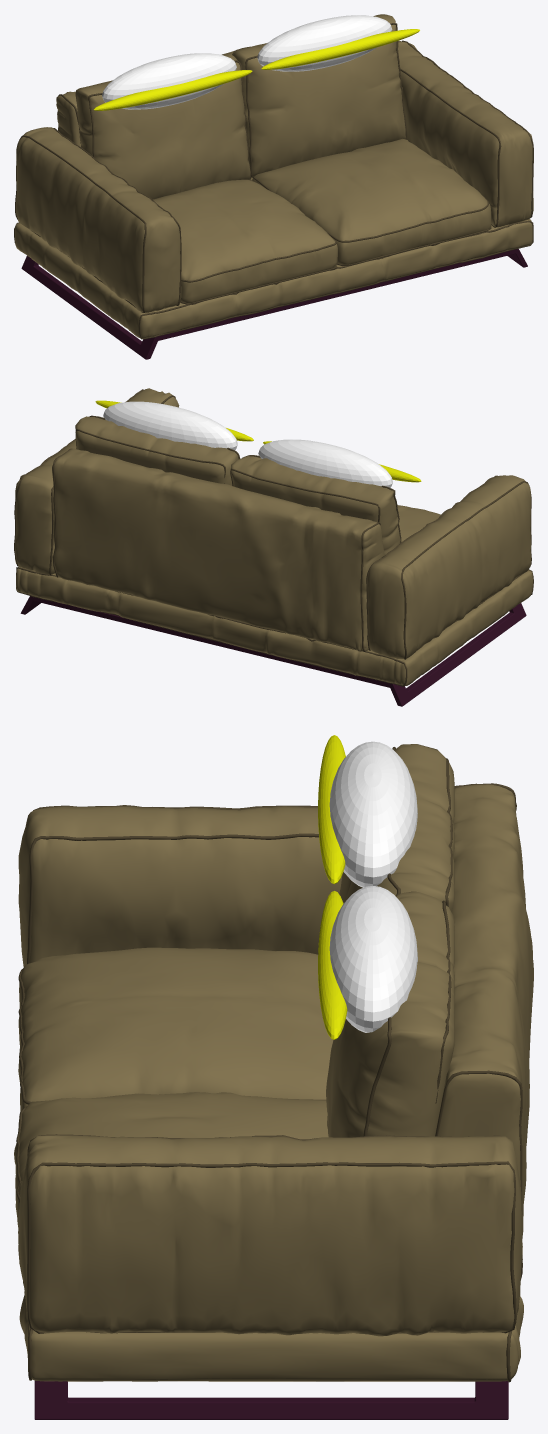
File: EVIILLL COUCHES.fbx
The picture shows the model from 3 angles, top to bottom: view 1: azimuth 30°, elevation 25°; view 2: azimuth 150°, elevation 25°; view 3: azimuth 270°, elevation 25°; orthographic projection. The views are drawn at different scales.
Parts seen in each view (by area): view 1: side#2_001, pillow-1_001, pillow-back_001, pillow-1#2_001, pillow-back#2_001, box-1#2_001, side#1_001, box-1#3_001, Sphere, Sphere.001, Sphere.002, Sphere.003 (+9 smaller); view 2: back#1_001, side#2_001, box-1#2_001, pillow-back#2_001, pillow-back_001, side#1_001, box-1#3_001, Sphere, Sphere.001, Group_019, pillow-1#2_001, Group_017 (+3 smaller); view 3: side#1_001, pillow-1#2_001, side#2_001, back#1_001, box-1#2_001, pillow-back_001, pillow-1_001, box-1#3_001, Sphere.001, Sphere, pillow-back#2_001, Group_029 (+4 smaller).
Boxes of the visible parts, x1,y1,x2,y2 form: side#2_001: (16, 127, 181, 312); pillow-1_001: (252, 138, 491, 264); pillow-back_001: (233, 14, 405, 178); pillow-1#2_001: (153, 179, 337, 302); pillow-back#2_001: (76, 53, 250, 199); box-1#2_001: (15, 219, 532, 338); side#1_001: (398, 41, 533, 227); box-1#3_001: (21, 249, 527, 359); Sphere: (257, 15, 392, 71); Sphere.001: (102, 53, 236, 109); Sphere.002: (93, 70, 252, 110); Sphere.003: (261, 29, 419, 69); back#1_001: (52, 448, 384, 651); side#2_001: (368, 475, 531, 658); box-1#2_001: (16, 566, 532, 685); pillow-back#2_001: (231, 456, 400, 555); pillow-back_001: (75, 416, 238, 485); side#1_001: (15, 388, 179, 574); box-1#3_001: (20, 596, 526, 706); Sphere: (103, 401, 237, 450); Sphere.001: (258, 439, 392, 487); Group_019: (16, 567, 407, 686); pillow-1#2_001: (397, 505, 440, 542); Group_017: (401, 481, 531, 659); side#1_001: (19, 1135, 521, 1336); pillow-1#2_001: (18, 947, 333, 1111); side#2_001: (18, 806, 342, 966); back#1_001: (435, 784, 533, 1259); box-1#2_001: (19, 1291, 523, 1381); pillow-back_001: (326, 891, 454, 1137); pillow-1_001: (14, 1092, 328, 1280); box-1#3_001: (34, 1381, 508, 1419); Sphere.001: (329, 741, 417, 887); Sphere: (329, 886, 417, 1032); pillow-back#2_001: (339, 744, 454, 912); Group_029: (27, 1161, 516, 1333).
Bounding box in the file's own units: 198 × 97.93 × 117.
